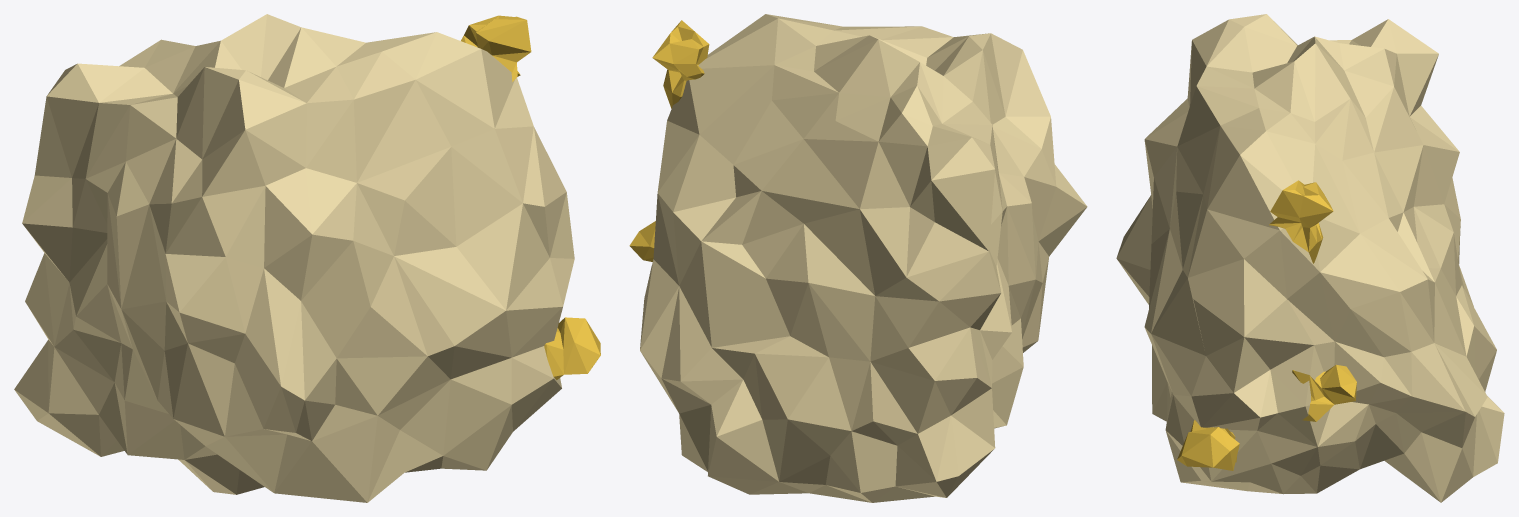
File: MetalOre (2).fbx
3 renders of one model, left to right at view 1: azimuth 30°, elevation 25°; view 2: azimuth 150°, elevation 25°; view 3: azimuth 270°, elevation 25°, orthographic. The views are drawn at different scales.
Parts seen in each view (by area): view 1: Asteroid357; view 2: Asteroid357; view 3: Asteroid357.
Part boxes in pixels (left/top/right/bottom): Asteroid357: left=14, top=14, right=600, bottom=502; Asteroid357: left=629, top=14, right=1087, bottom=502; Asteroid357: left=1116, top=14, right=1504, bottom=502.
Size of the model in its own units: 650 by 626 by 537.
